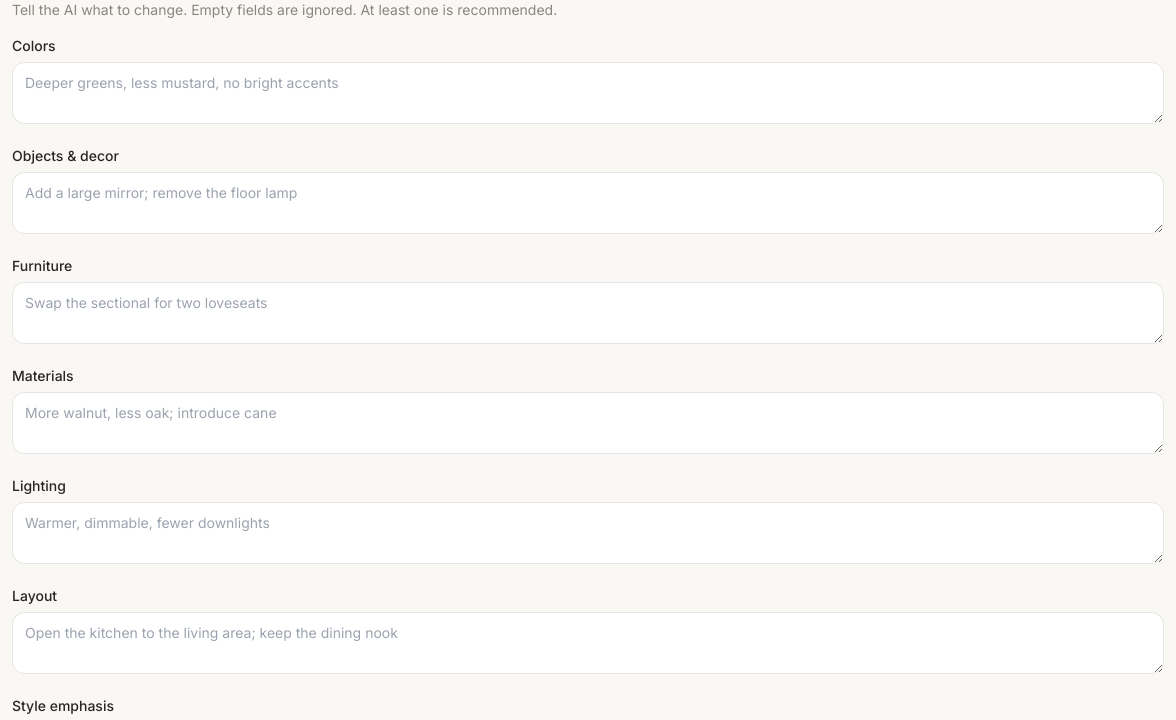
Test: <RefinementForm /> › enables the submit button once any field is filled
The width and height of the screenshot is (1176, 720).
In the text box labelled "Colors": (588, 93) [12,62,1164,124], type "Deeper greens"
(page scrolled)
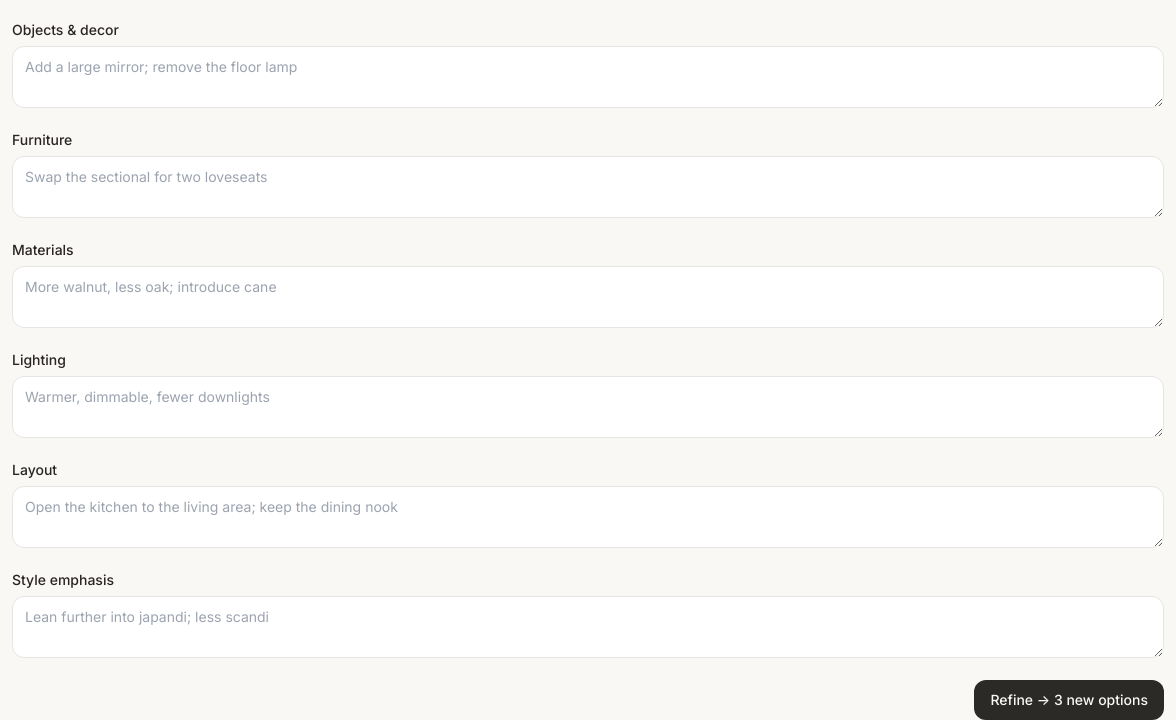
Now the button "Refine → 3 new options" is enabled, box [974,680,1164,719]
